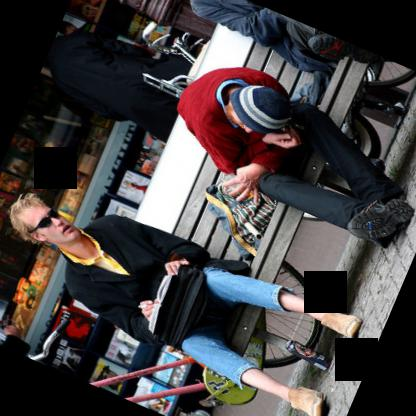handbag: (206, 172, 277, 262), (155, 264, 209, 350)
